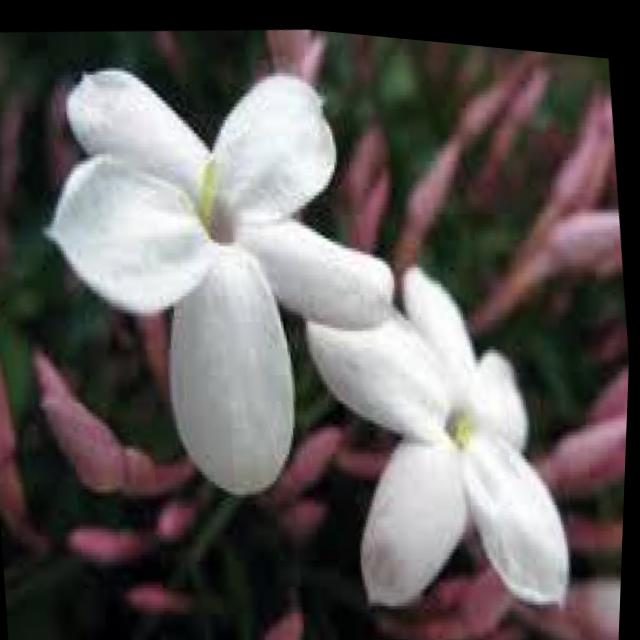Flower: (32, 9, 420, 521), (286, 234, 597, 639)
